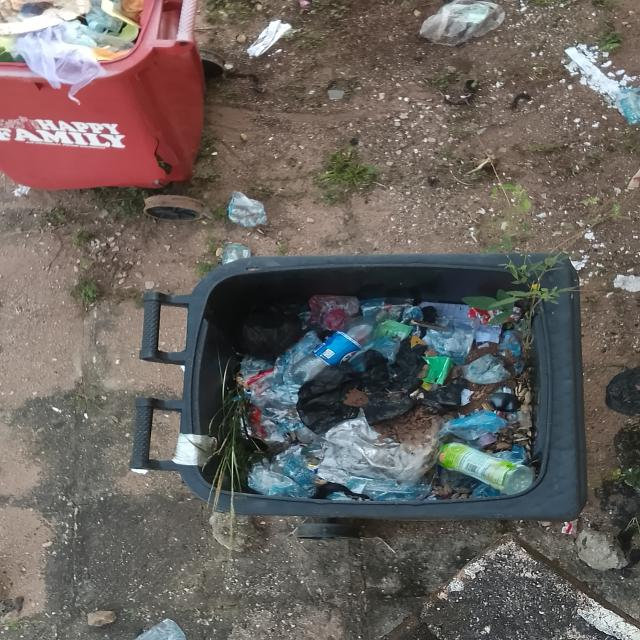full: (0, 2, 160, 78)
half-full: (190, 262, 572, 518)
